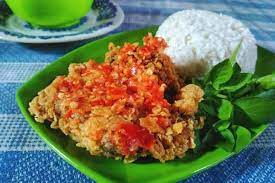ayam_geprek: (45, 51, 203, 161)
